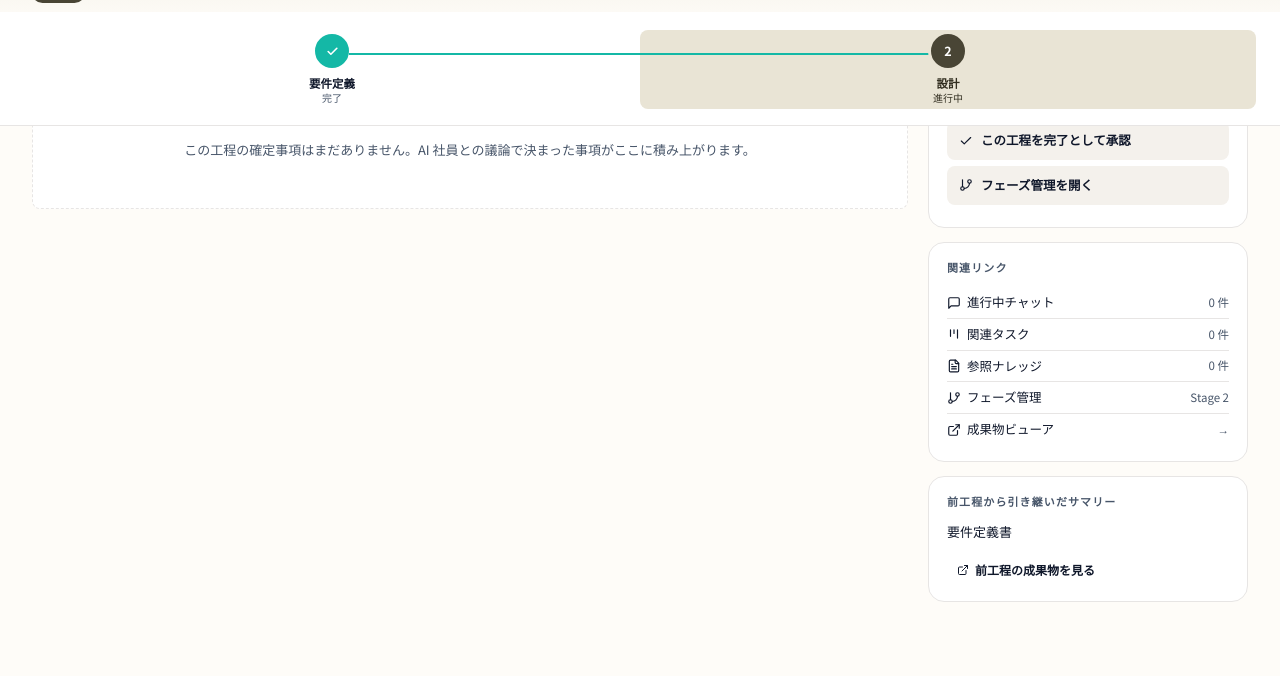
Test: S-F01 WorkflowGraphContainer (T-UC-10) › shows previous phase outputs via 前工程の成果物を見る (GAP-031②)
(page scrolled)
Step 1. Click the button "前工程の成果物を見る" → (1026, 570), box 947,555 -> 1105,585
(page scrolled)
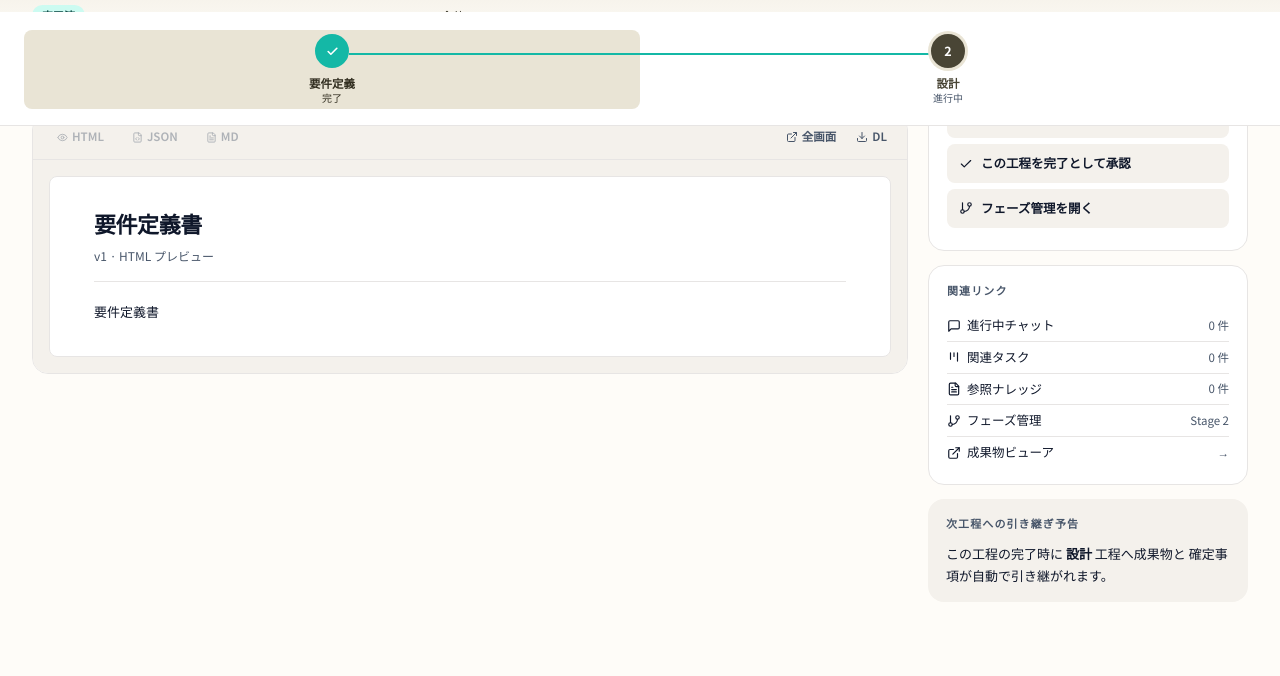
Expected: the heading "要件定義書" is shown, 94,207 -> 202,239
